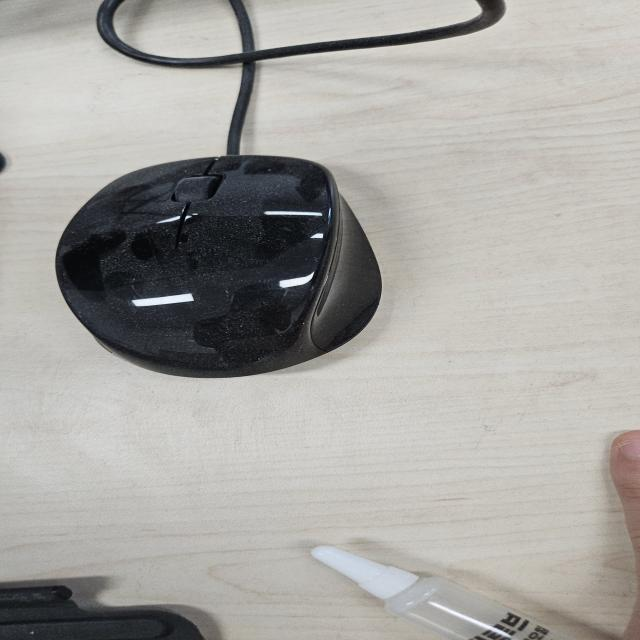Mouse: (53, 153, 385, 379)
